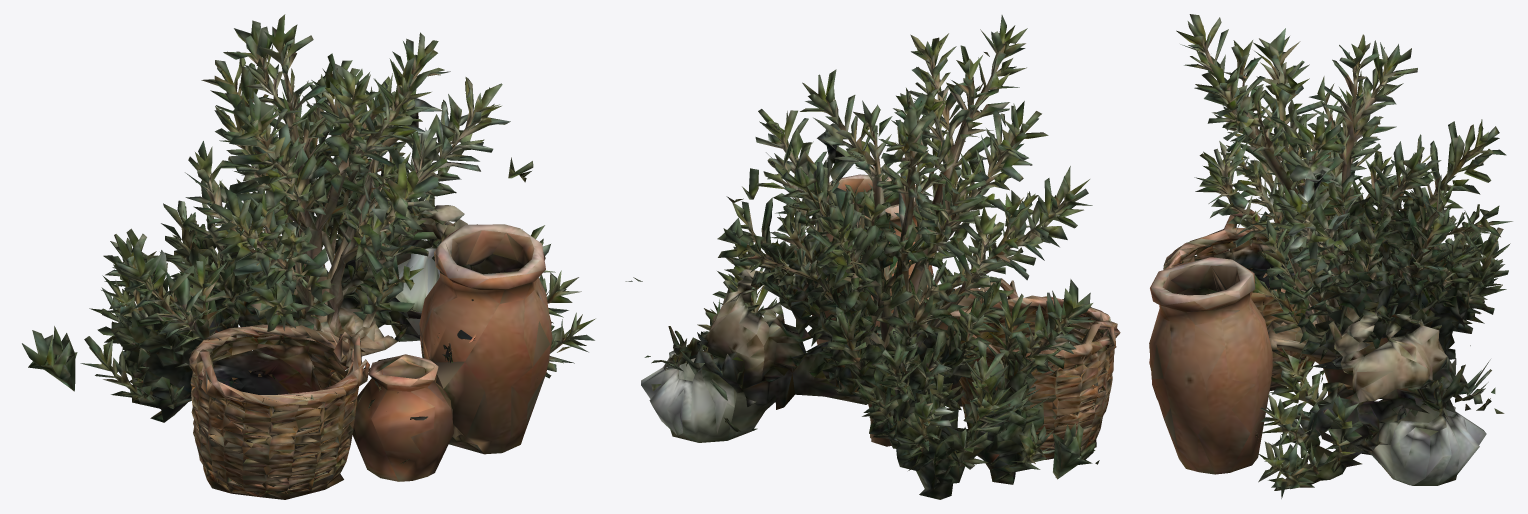
The model's file is olive-basket-cluster-a.glb.
3 views of the same model, side by side, from view 1: azimuth 30°, elevation 25°; view 2: azimuth 150°, elevation 25°; view 3: azimuth 270°, elevation 25° (orthographic). The views are drawn at different scales.
Visible parts, largest first — view 1: geometry_0; view 2: geometry_0; view 3: geometry_0.
Boxes of the visible parts, left/top/right/bottom form: geometry_0: left=22, top=14, right=595, bottom=499; geometry_0: left=625, top=15, right=1120, bottom=499; geometry_0: left=1149, top=14, right=1512, bottom=498.
Size of the model in its own units: 1.91 by 1.5 by 1.3.
1 material, 1 textured.
